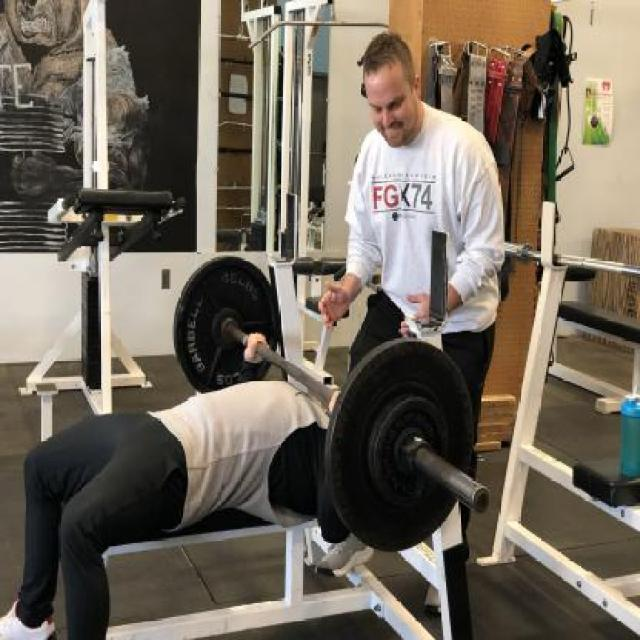barbell: (320, 329, 504, 566)
